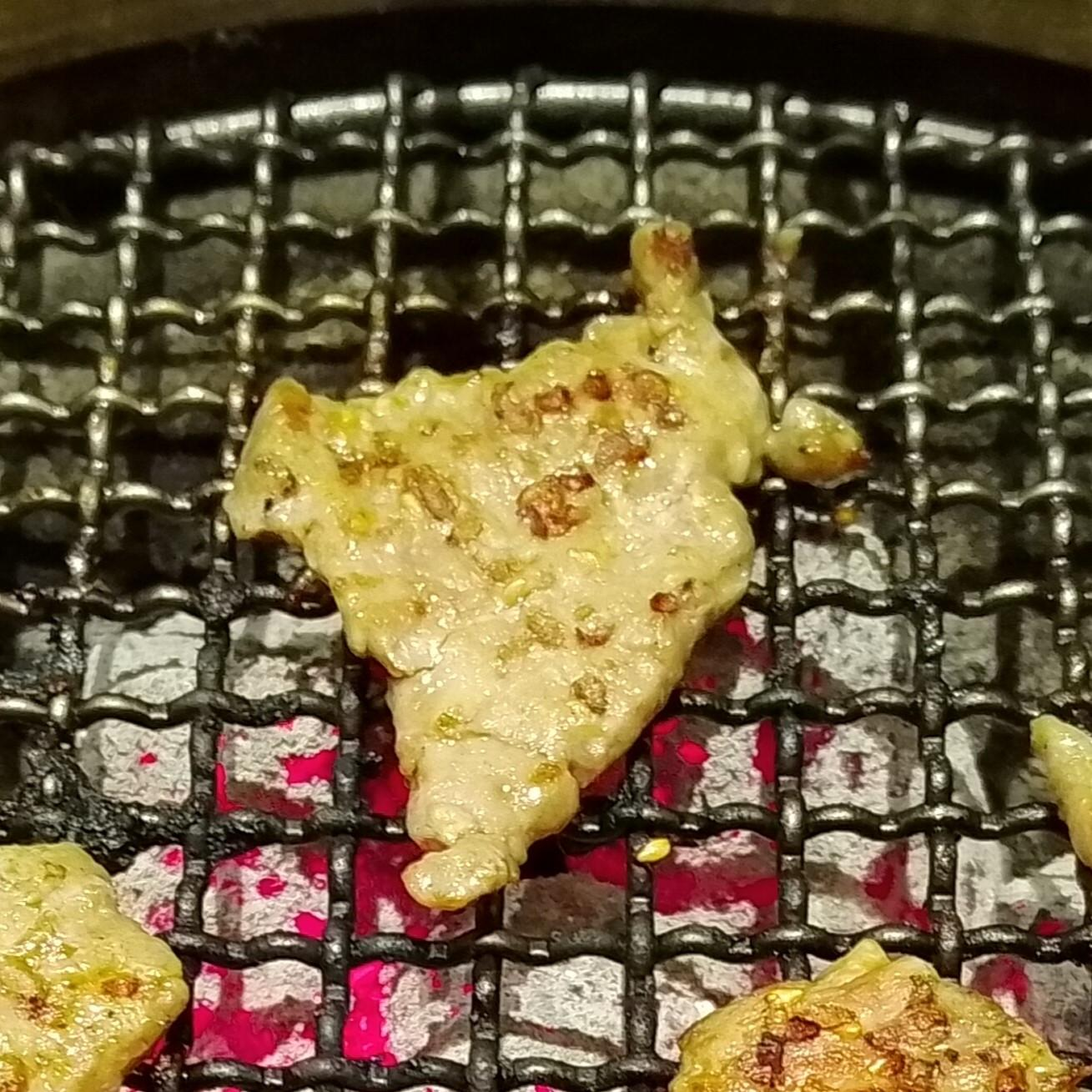Well-Cooked: (224, 217, 868, 910), (670, 940, 1082, 1091), (0, 843, 189, 1091), (1030, 715, 1091, 868)
